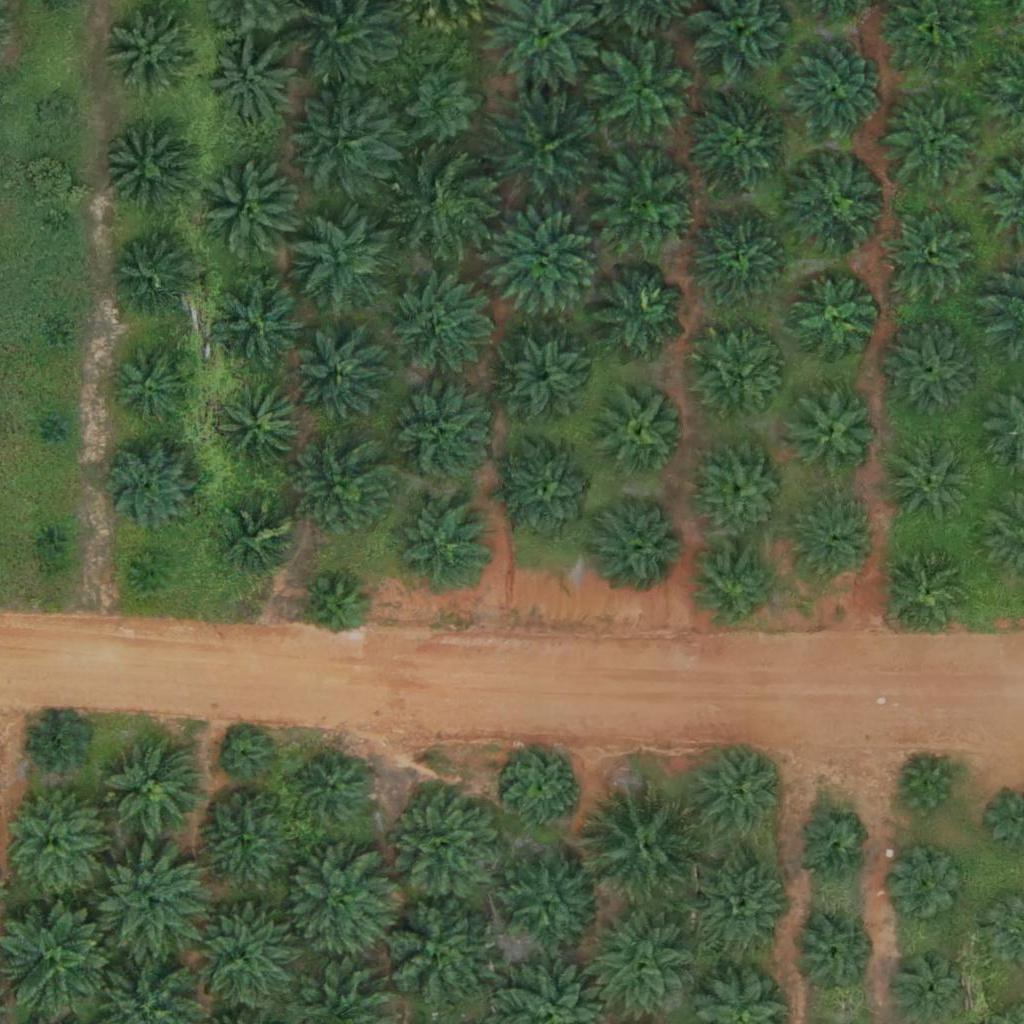Kelapa_Sawit: (384, 780, 509, 906), (372, 891, 497, 1017), (583, 781, 708, 907), (486, 212, 599, 326), (588, 40, 701, 153), (483, 92, 596, 205), (93, 845, 206, 958), (291, 82, 403, 196), (93, 430, 205, 543), (282, 848, 394, 961), (883, 89, 983, 190), (882, 206, 982, 307), (880, 322, 980, 423), (783, 40, 883, 141), (788, 153, 888, 254), (689, 96, 789, 197), (691, 206, 791, 307), (599, 150, 699, 251), (290, 211, 390, 312), (199, 160, 299, 261), (207, 272, 307, 373), (294, 439, 394, 540), (388, 384, 488, 485), (393, 494, 493, 595), (4, 791, 104, 892), (104, 739, 204, 840), (193, 793, 293, 894), (588, 262, 688, 362), (395, 155, 495, 255), (388, 276, 488, 376), (499, 443, 599, 543), (591, 494, 691, 594), (693, 440, 793, 540), (498, 852, 598, 952), (688, 744, 788, 844), (692, 860, 792, 960), (111, 341, 199, 430), (790, 277, 878, 365), (496, 335, 584, 423), (108, 233, 196, 321), (217, 385, 305, 473), (790, 390, 878, 478), (792, 496, 880, 584), (888, 436, 976, 524), (885, 546, 973, 634), (789, 909, 876, 997), (696, 336, 783, 424), (297, 337, 384, 425), (209, 38, 296, 126), (109, 5, 196, 93), (102, 127, 189, 215), (599, 386, 686, 474), (693, 543, 780, 631), (404, 66, 479, 142), (505, 749, 580, 825), (793, 809, 868, 885), (891, 851, 966, 926), (224, 503, 299, 578), (296, 752, 371, 827), (303, 576, 366, 639), (26, 714, 89, 777), (896, 757, 958, 820), (221, 731, 271, 781), (40, 97, 78, 135), (133, 552, 171, 590), (49, 212, 74, 237), (43, 328, 68, 353), (44, 417, 69, 442), (37, 527, 62, 552)
